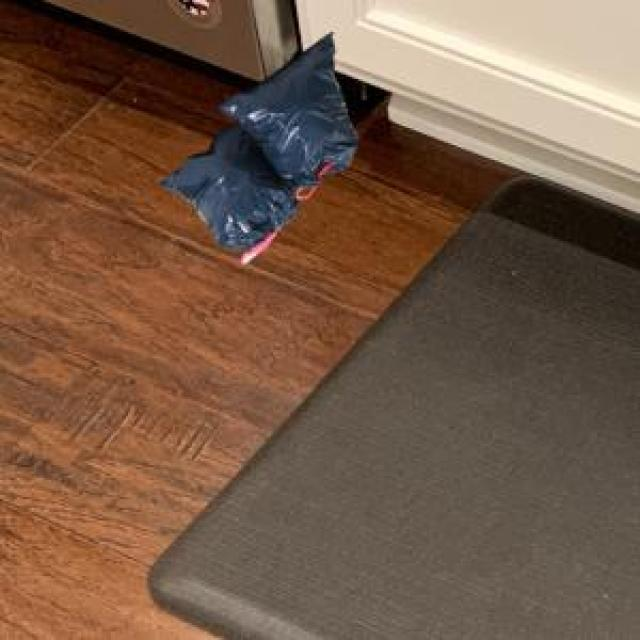waste: (162, 34, 356, 259)
